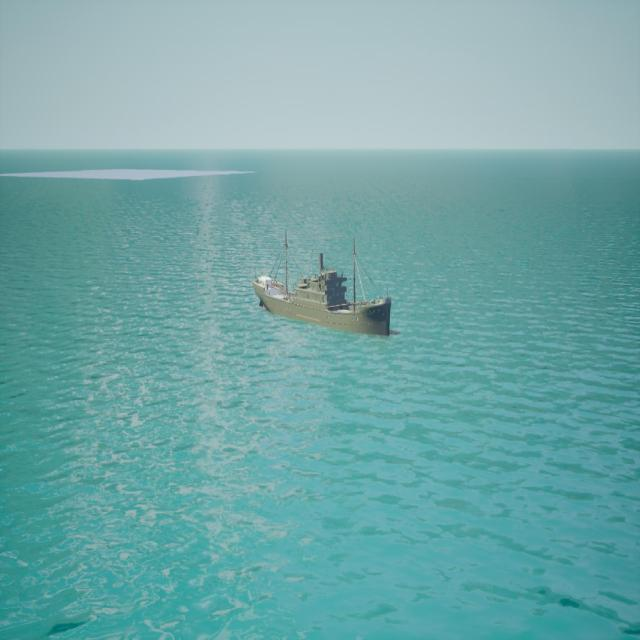fishing ship: (254, 235, 395, 340)
